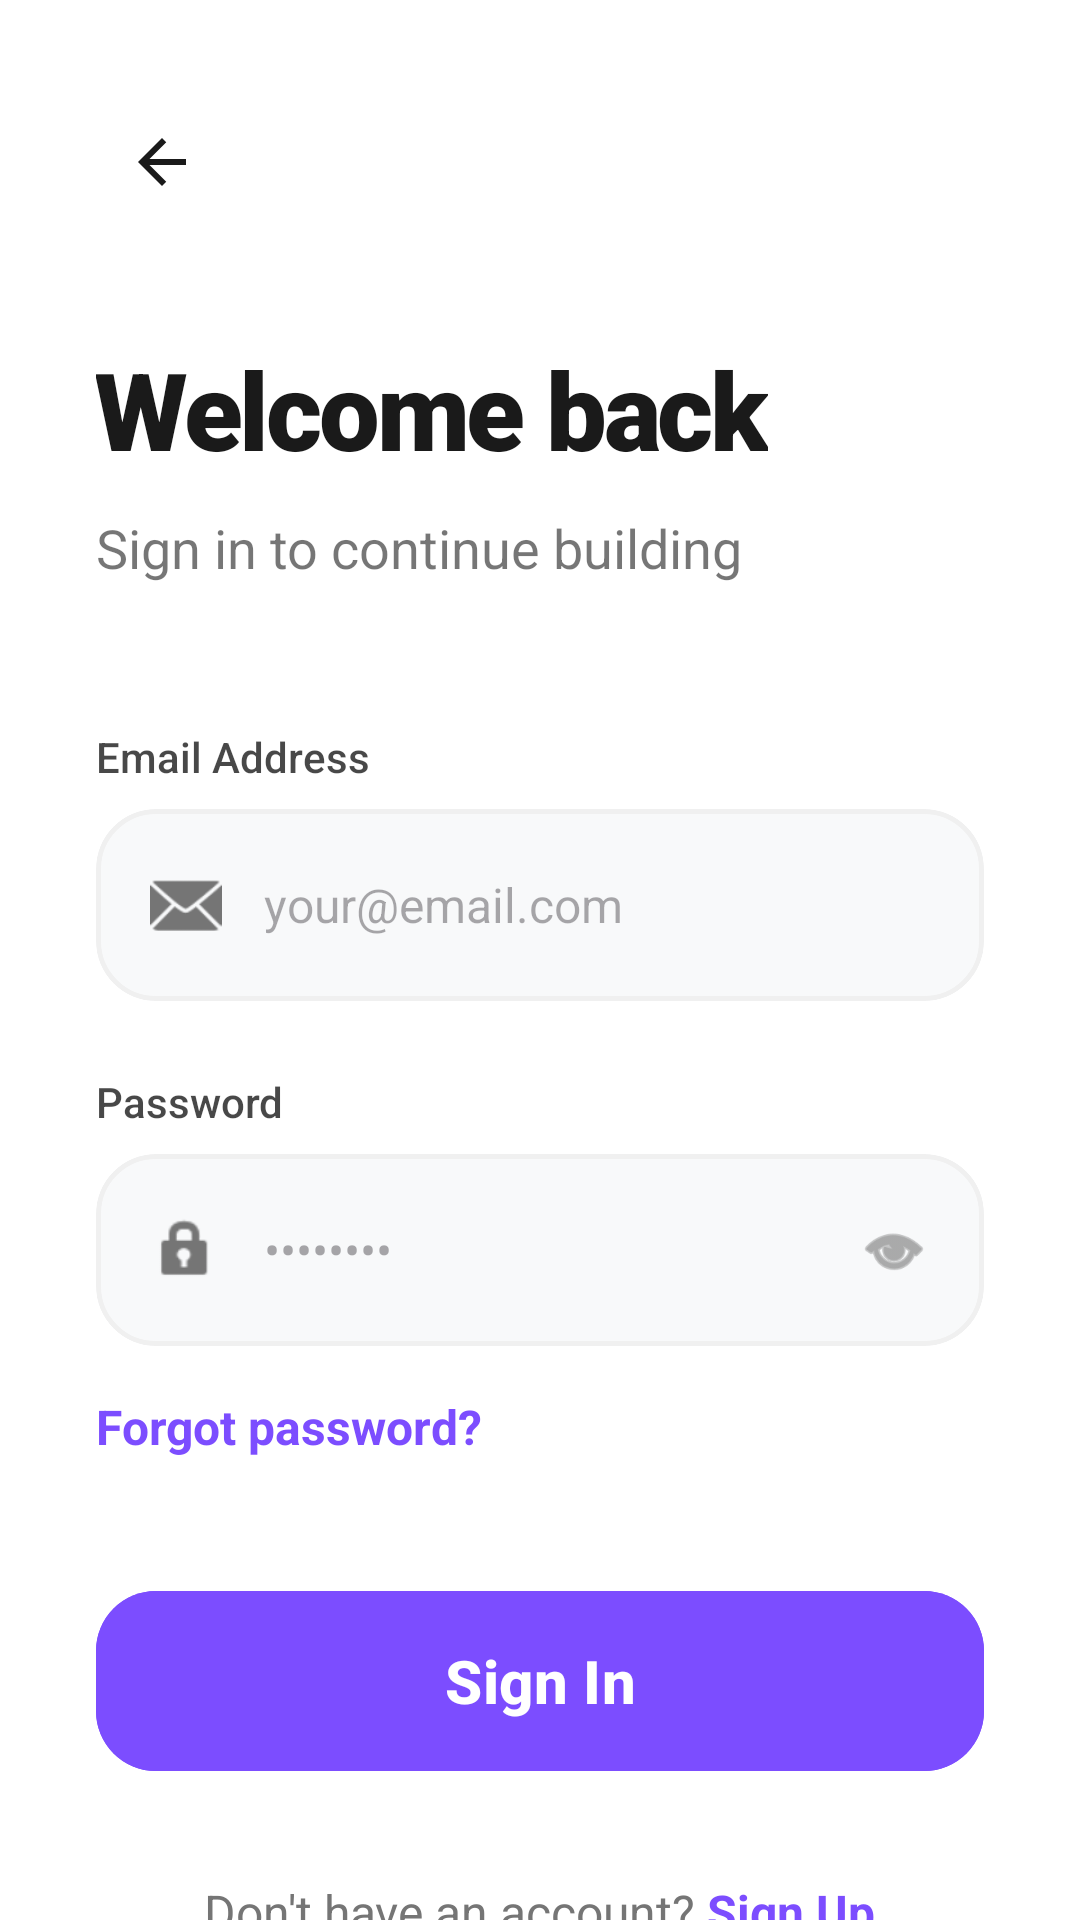

Icon click points for this 1080×1920 phone screenshot, format [x,y]:
lock idle: [184,1247]
view: [894,1252]
